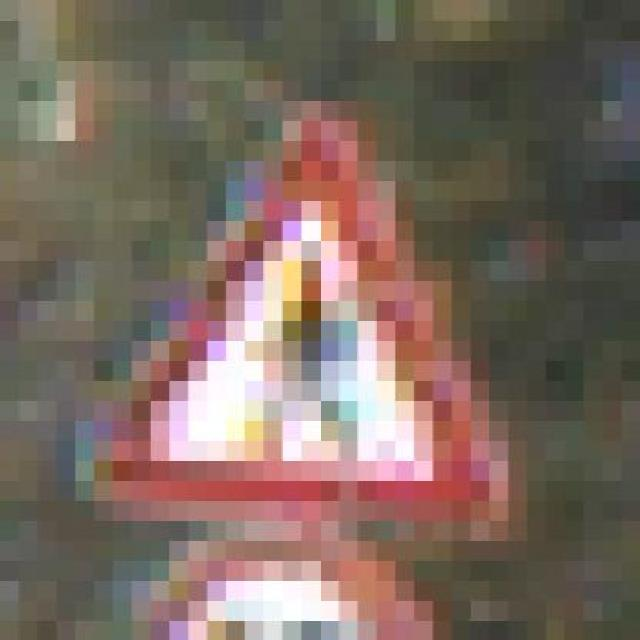Pedestrian Crossing: (75, 100, 528, 540)
